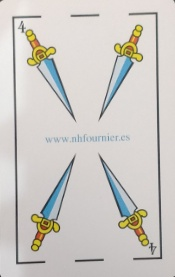4e: (10, 10, 159, 36)
